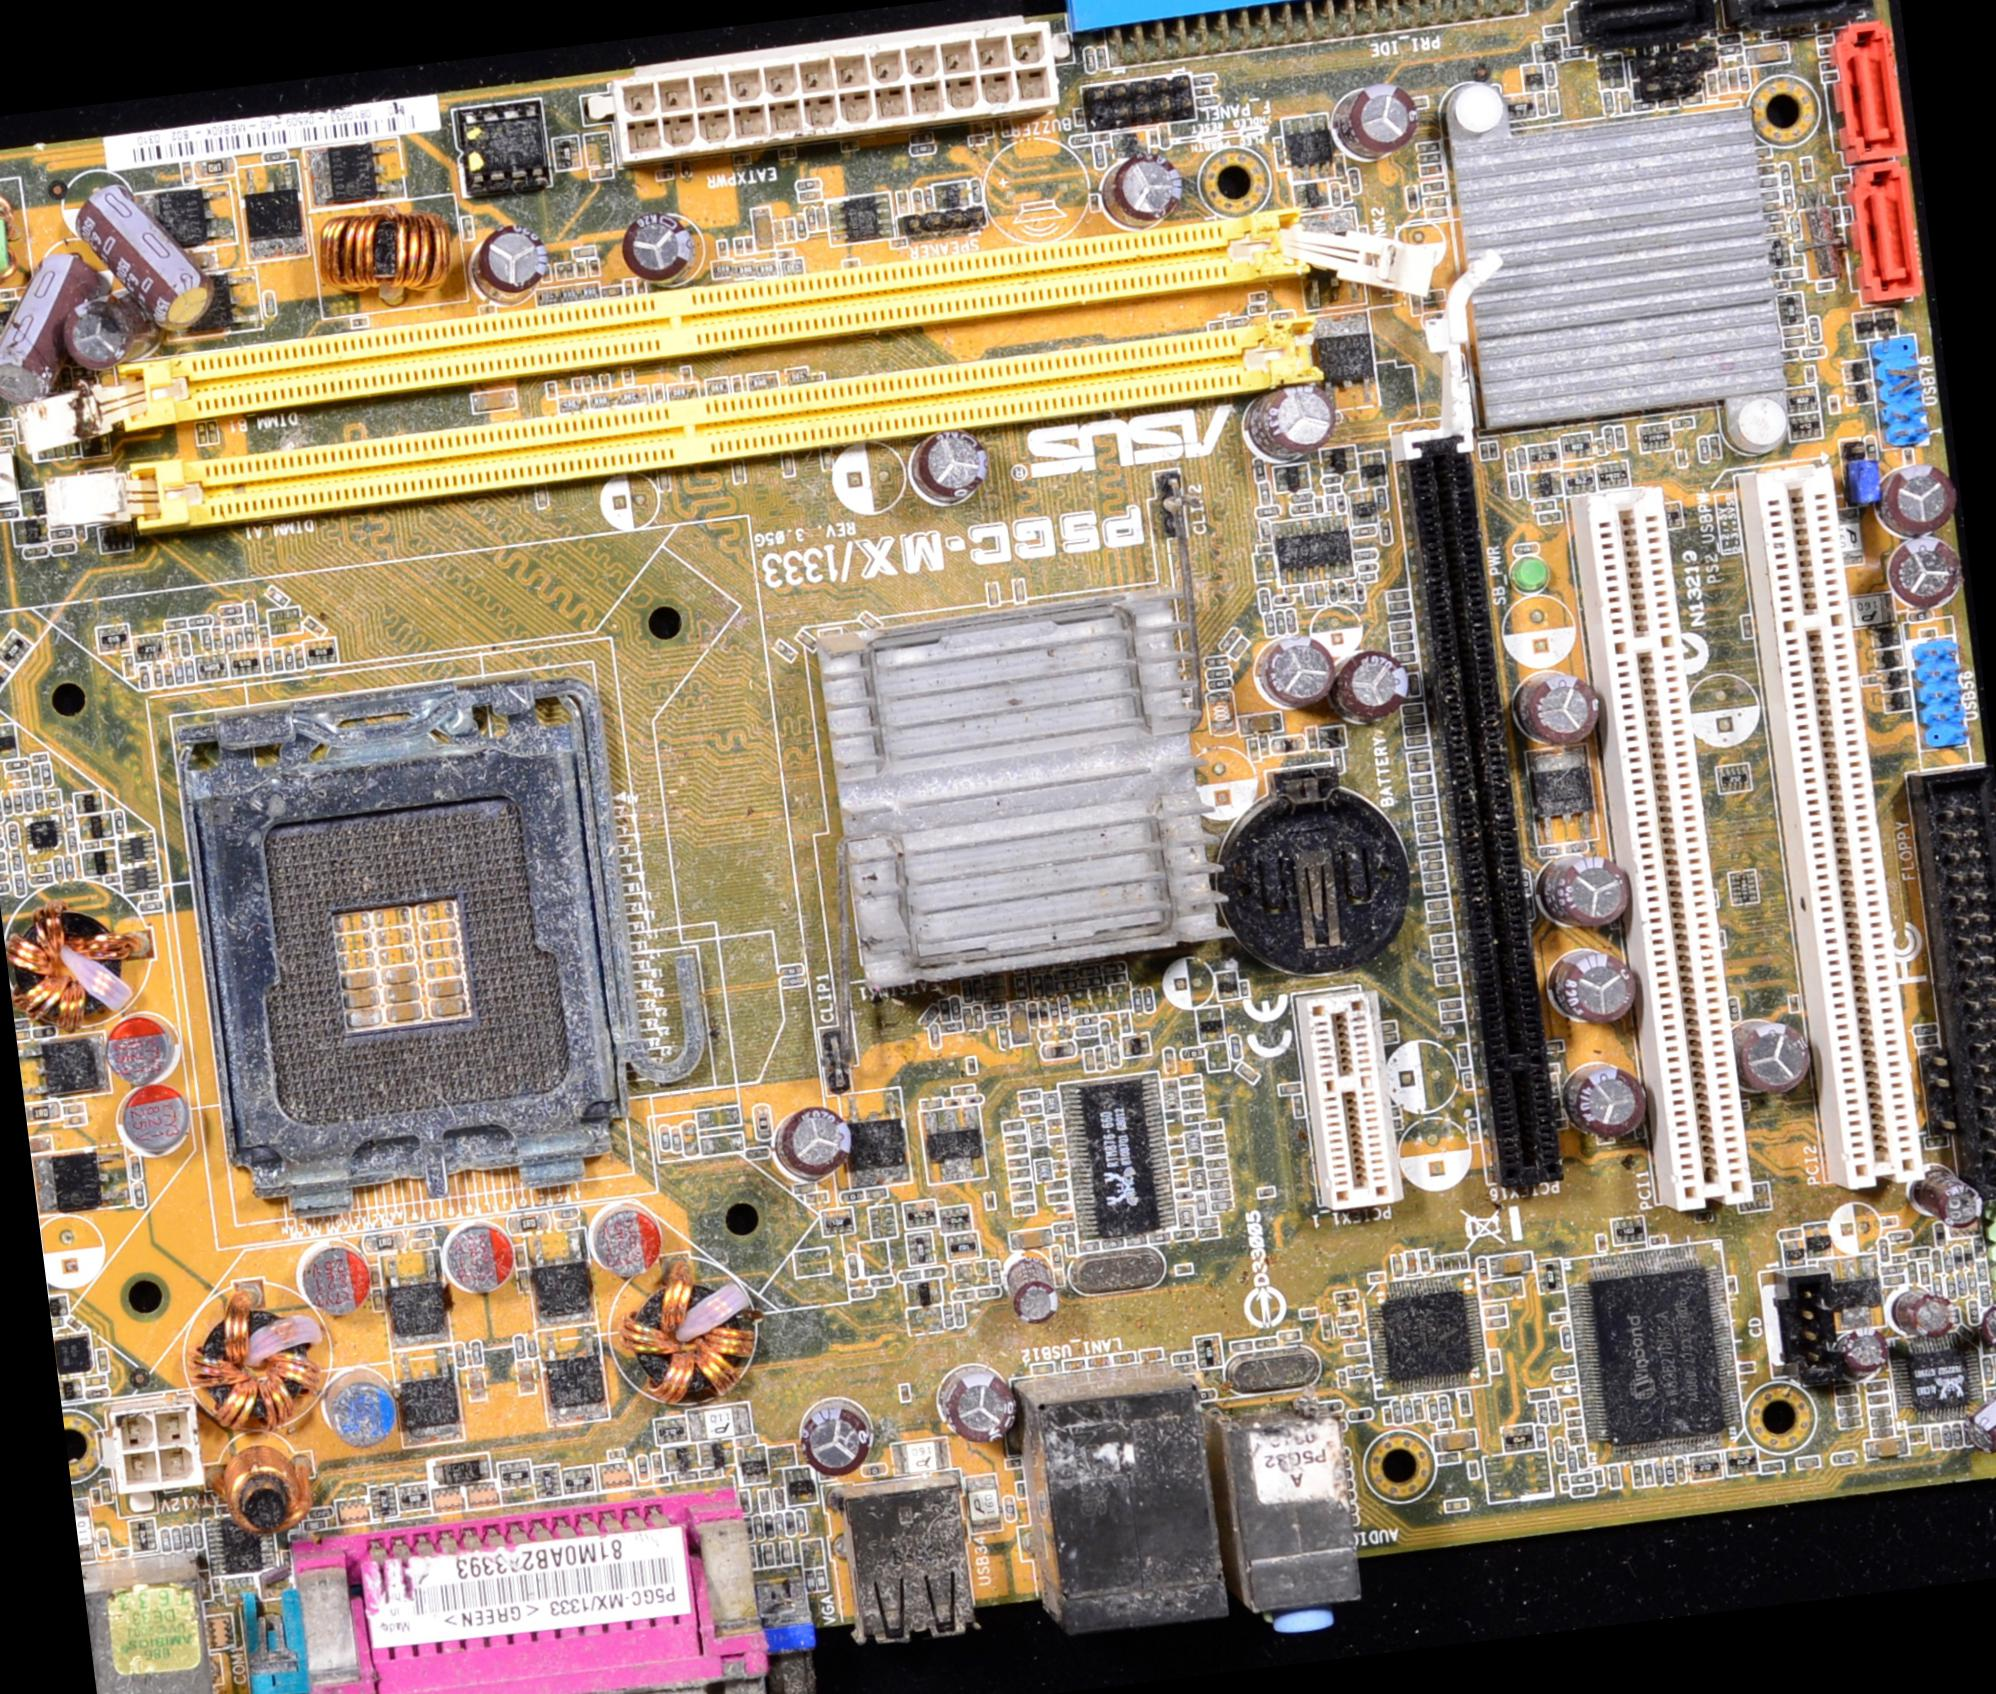Capacitor Jumper: (1435, 1428, 1480, 1454), (1487, 1252, 1531, 1277), (1238, 709, 1284, 733), (1862, 1435, 1909, 1457), (1749, 42, 1791, 64), (855, 605, 882, 630), (1233, 1060, 1260, 1084), (795, 629, 817, 652), (29, 1134, 54, 1155), (793, 1506, 808, 1538), (1010, 575, 1027, 603), (1275, 1079, 1300, 1097), (1793, 1454, 1823, 1469), (1425, 944, 1453, 960), (795, 187, 823, 202), (25, 860, 54, 876), (684, 1123, 697, 1155), (983, 580, 1000, 605), (1087, 1353, 1111, 1370), (1411, 1393, 1425, 1422), (1482, 1304, 1507, 1319), (1831, 1383, 1857, 1398), (1346, 168, 1361, 193), (675, 361, 692, 383), (1426, 931, 1453, 944), (1431, 961, 1458, 975), (1410, 798, 1437, 812), (1415, 830, 1442, 844), (1421, 867, 1445, 882), (1868, 1403, 1892, 1418), (1415, 141, 1438, 156), (1781, 323, 1804, 338), (1410, 785, 1433, 800), (1342, 1343, 1368, 1356), (1487, 1348, 1500, 1373), (1546, 89, 1559, 114), (1779, 336, 1804, 350), (1383, 588, 1408, 602), (1386, 620, 1411, 634), (775, 1509, 786, 1538), (1139, 1348, 1161, 1363), (1865, 1378, 1887, 1393), (729, 462, 744, 484), (1435, 1010, 1462, 1022), (1195, 1193, 1208, 1217), (1389, 1250, 1401, 1277), (1112, 1353, 1136, 1366), (897, 1381, 911, 1405), (1438, 1395, 1452, 1418), (759, 1544, 773, 1568), (1719, 44, 1742, 57), (1329, 180, 1341, 207), (780, 452, 793, 476), (1383, 600, 1406, 613), (1405, 738, 1428, 751), (1403, 750, 1430, 761), (96, 1348, 108, 1373), (1405, 1249, 1416, 1274), (1833, 1407, 1858, 1418), (1836, 1417, 1862, 1428), (1929, 1427, 1941, 1452), (1445, 1501, 1470, 1512), (1314, 580, 1326, 605), (1413, 822, 1438, 834), (1297, 1306, 1319, 1319), (1062, 1358, 1084, 1371), (1389, 1402, 1403, 1423), (1873, 1417, 1895, 1430), (964, 133, 986, 146), (1420, 163, 1442, 176), (1779, 187, 1793, 208), (62, 1114, 86, 1126), (410, 1239, 433, 1250), (84, 1375, 108, 1386), (1030, 1363, 1053, 1375), (911, 131, 934, 143), (1715, 71, 1727, 94), (820, 449, 832, 472), (1389, 640, 1413, 652), (1401, 702, 1425, 714), (1423, 899, 1450, 909), (1433, 975, 1460, 985), (571, 247, 598, 257), (1799, 156, 1813, 176), (1757, 188, 1778, 202), (657, 471, 670, 491), (1388, 632, 1415, 642), (1405, 763, 1431, 773), (1423, 882, 1445, 894), (62, 1102, 84, 1114), (1173, 1264, 1195, 1276), (1230, 1341, 1252, 1353), (536, 486, 548, 508), (1396, 654, 1418, 665), (1415, 810, 1437, 822), (1438, 998, 1463, 1008), (1082, 1047, 1092, 1072), (1337, 1314, 1363, 1324), (1428, 1397, 1438, 1422), (753, 1512, 763, 1538), (541, 380, 556, 397), (1865, 432, 1875, 457), (1401, 716, 1426, 726), (964, 1055, 978, 1074), (1425, 911, 1448, 921), (670, 1128, 680, 1151), (558, 1220, 581, 1230), (1080, 1240, 1100, 1252), (1484, 1319, 1507, 1329), (1403, 1400, 1413, 1423), (1835, 1397, 1858, 1407), (601, 286, 622, 297), (1420, 859, 1443, 869), (66, 1316, 81, 1331), (660, 1124, 669, 1151), (1378, 1034, 1400, 1044), (1205, 1170, 1226, 1180), (781, 1543, 791, 1565), (817, 1570, 827, 1591), (1727, 67, 1737, 89), (1378, 1023, 1396, 1035), (867, 1190, 885, 1202), (1761, 175, 1779, 187), (1379, 1407, 1389, 1427), (1403, 724, 1423, 734), (1410, 775, 1430, 785), (1210, 1192, 1233, 1200), (1210, 1202, 1233, 1210), (1867, 1395, 1890, 1403), (1418, 155, 1442, 163), (570, 376, 581, 393), (1420, 849, 1438, 859), (805, 1570, 813, 1591), (1620, 91, 1628, 111), (1126, 1237, 1144, 1245), (600, 370, 608, 388), (585, 375, 593, 393), (50, 1318, 66, 1328), (1762, 200, 1778, 210), (15, 1032, 30, 1042), (623, 368, 632, 385), (1368, 1274, 1383, 1282), (1280, 1331, 1295, 1339), (1198, 1220, 1215, 1225), (0, 872, 8, 882), (0, 862, 7, 872)
Connector: (1563, 0, 1717, 50), (1717, 0, 1863, 34)
IC: (1568, 1242, 1741, 1464), (1062, 1074, 1181, 1235), (138, 180, 235, 257), (306, 139, 402, 208), (203, 1511, 279, 1580), (20, 812, 62, 857), (118, 834, 160, 867), (121, 864, 160, 894)
Resistor Jumper: (475, 222, 549, 296), (509, 1213, 546, 1234), (370, 1234, 400, 1252), (1376, 519, 1395, 546), (1694, 432, 1709, 462), (1005, 1178, 1033, 1193), (793, 175, 822, 190), (1201, 654, 1233, 667), (511, 1333, 526, 1360), (469, 1339, 484, 1366), (1403, 187, 1418, 213), (1421, 178, 1445, 195), (1057, 993, 1070, 1022), (180, 1523, 193, 1551), (1193, 1385, 1215, 1402), (837, 1190, 864, 1203), (301, 1518, 328, 1531), (131, 1183, 146, 1207), (1001, 1118, 1025, 1133), (1810, 314, 1821, 345), (1349, 524, 1373, 539), (1010, 1190, 1035, 1203), (1169, 1351, 1195, 1365), (635, 1455, 649, 1481), (1001, 1496, 1015, 1521), (156, 1529, 171, 1551), (1457, 1390, 1472, 1412), (193, 1519, 203, 1551), (128, 1156, 141, 1180), (1183, 1111, 1206, 1124), (1888, 1230, 1912, 1244), (1547, 1368, 1574, 1380), (860, 1464, 887, 1476), (909, 145, 936, 156), (1737, 67, 1751, 91), (805, 203, 817, 230), (793, 212, 805, 239), (1514, 444, 1527, 467), (1287, 608, 1299, 635), (1206, 679, 1233, 691), (1941, 1420, 1951, 1450), (1255, 481, 1270, 501), (1205, 669, 1235, 679), (1001, 1144, 1027, 1156), (1005, 1158, 1030, 1170), (761, 1514, 773, 1539), (50, 543, 76, 555), (186, 615, 212, 627), (1287, 504, 1312, 516), (30, 1027, 55, 1039), (1075, 1013, 1097, 1027), (1930, 1223, 1944, 1245), (1193, 72, 1215, 86), (1253, 457, 1267, 479), (220, 603, 242, 617), (1253, 504, 1275, 518), (1507, 476, 1521, 497), (1964, 1240, 1974, 1269), (743, 1514, 753, 1543), (971, 978, 983, 1002), (1016, 975, 1028, 998), (1141, 986, 1153, 1010), (1037, 1000, 1048, 1023), (1001, 1133, 1025, 1144), (1005, 1166, 1028, 1178), (1205, 1146, 1228, 1158), (455, 1343, 467, 1366), (1347, 1408, 1371, 1420), (1423, 197, 1447, 208), (1778, 161, 1789, 185), (1319, 474, 1342, 486), (1334, 576, 1346, 600), (3, 758, 27, 770), (12, 790, 24, 813), (1082, 975, 1102, 988), (1010, 1207, 1037, 1217), (1260, 587, 1270, 613), (7, 822, 17, 849), (54, 855, 64, 882), (12, 874, 25, 894), (1102, 961, 1124, 973), (961, 981, 973, 1003), (1230, 1037, 1242, 1059), (1919, 1264, 1930, 1286), (1561, 1326, 1573, 1348), (1978, 1282, 1989, 1304), (1092, 145, 1104, 166), (1321, 484, 1342, 496), (151, 664, 163, 686), (949, 995, 959, 1020), (1131, 986, 1141, 1012), (1179, 1091, 1205, 1101), (1952, 1244, 1962, 1269), (171, 1526, 181, 1551), (1663, 1459, 1673, 1484), (1195, 96, 1220, 106), (139, 664, 150, 689), (1275, 608, 1285, 634), (2, 788, 12, 813), (64, 854, 74, 879), (29, 874, 54, 884), (0, 506, 18, 519), (1952, 1422, 1961, 1450), (1032, 976, 1043, 997), (983, 1002, 1006, 1012), (1179, 1074, 1203, 1084), (1183, 1099, 1206, 1109), (1052, 1222, 1072, 1234), (1052, 1245, 1062, 1269), (1473, 1257, 1485, 1277), (1878, 1239, 1888, 1262), (1944, 1272, 1954, 1296), (22, 548, 45, 558), (24, 788, 34, 812), (13, 1017, 29, 1032), (1983, 1356, 1991, 1383), (0, 435, 17, 449), (1028, 1005, 1038, 1027), (1203, 1136, 1225, 1146), (943, 1304, 953, 1326), (1566, 45, 1588, 55), (200, 630, 210, 652), (223, 629, 234, 650), (244, 625, 254, 647), (1337, 496, 1347, 518), (1353, 580, 1363, 602), (1263, 615, 1274, 637), (12, 850, 22, 872), (89, 1388, 108, 1400), (1976, 1264, 1988, 1282), (1048, 997, 1057, 1022), (526, 1333, 534, 1358), (1936, 1272, 1944, 1297), (786, 1512, 795, 1538), (1378, 487, 1386, 513), (1057, 981, 1077, 992), (986, 1012, 1006, 1022), (1967, 1302, 1978, 1323), (733, 235, 743, 255), (30, 766, 40, 786), (35, 788, 45, 808), (234, 625, 242, 649), (1057, 970, 1075, 980), (1151, 1234, 1169, 1244), (1956, 1274, 1966, 1292), (554, 1210, 576, 1218), (1356, 563, 1378, 571), (114, 810, 123, 832), (0, 418, 13, 432), (635, 277, 647, 292), (0, 881, 12, 896), (973, 1007, 981, 1027), (1181, 1049, 1201, 1057), (40, 763, 49, 783), (1080, 968, 1099, 976), (1107, 973, 1126, 981), (655, 171, 674, 180), (1201, 1123, 1223, 1129), (1882, 1265, 1899, 1274), (717, 240, 726, 257), (623, 277, 632, 294), (30, 753, 45, 761), (143, 892, 158, 901), (746, 235, 753, 254), (81, 842, 99, 849), (941, 1002, 948, 1018), (0, 850, 7, 860), (0, 839, 3, 850)
Transistor: (52, 1331, 96, 1378), (74, 810, 114, 840), (1292, 180, 1327, 213), (79, 849, 118, 879), (1354, 449, 1384, 486), (1347, 487, 1378, 524), (1195, 1008, 1225, 1042), (1803, 1223, 1833, 1257), (12, 516, 47, 544), (1270, 464, 1304, 492), (1321, 447, 1356, 474), (0, 723, 20, 761), (1868, 649, 1904, 671), (1877, 671, 1907, 692), (72, 790, 101, 812), (1870, 627, 1899, 649), (1880, 692, 1910, 713), (47, 1292, 71, 1318), (59, 1378, 86, 1400), (1781, 1242, 1804, 1264), (0, 660, 13, 697)
